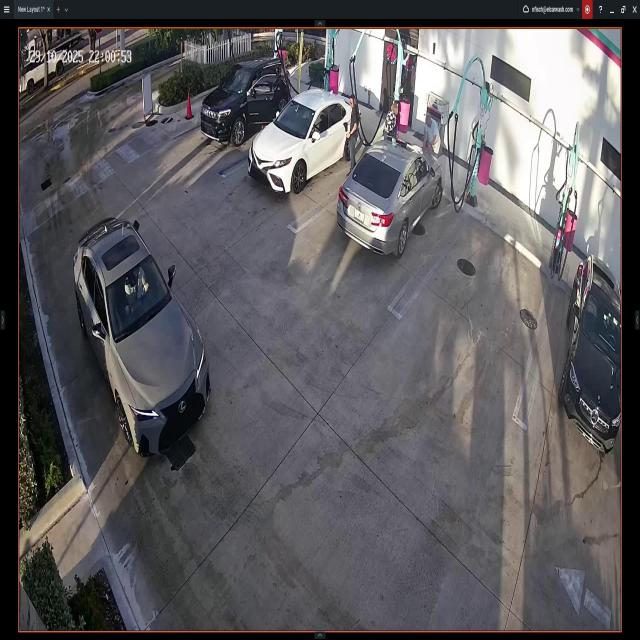Car: (72, 213, 210, 455), (337, 138, 442, 254), (565, 257, 623, 452), (250, 86, 357, 190), (202, 57, 291, 142)
